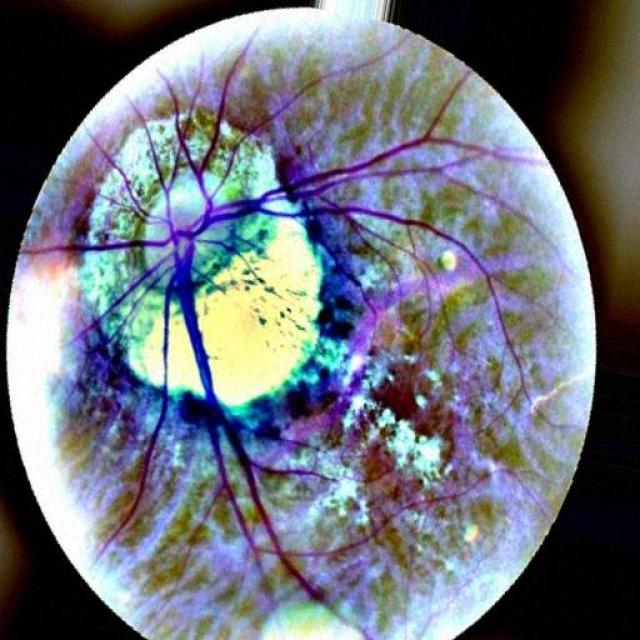Macula: (369, 367, 460, 459)
Nerves: (179, 137, 510, 347), (177, 252, 295, 577), (31, 238, 172, 261)
Optic Disk: (95, 127, 312, 399)
